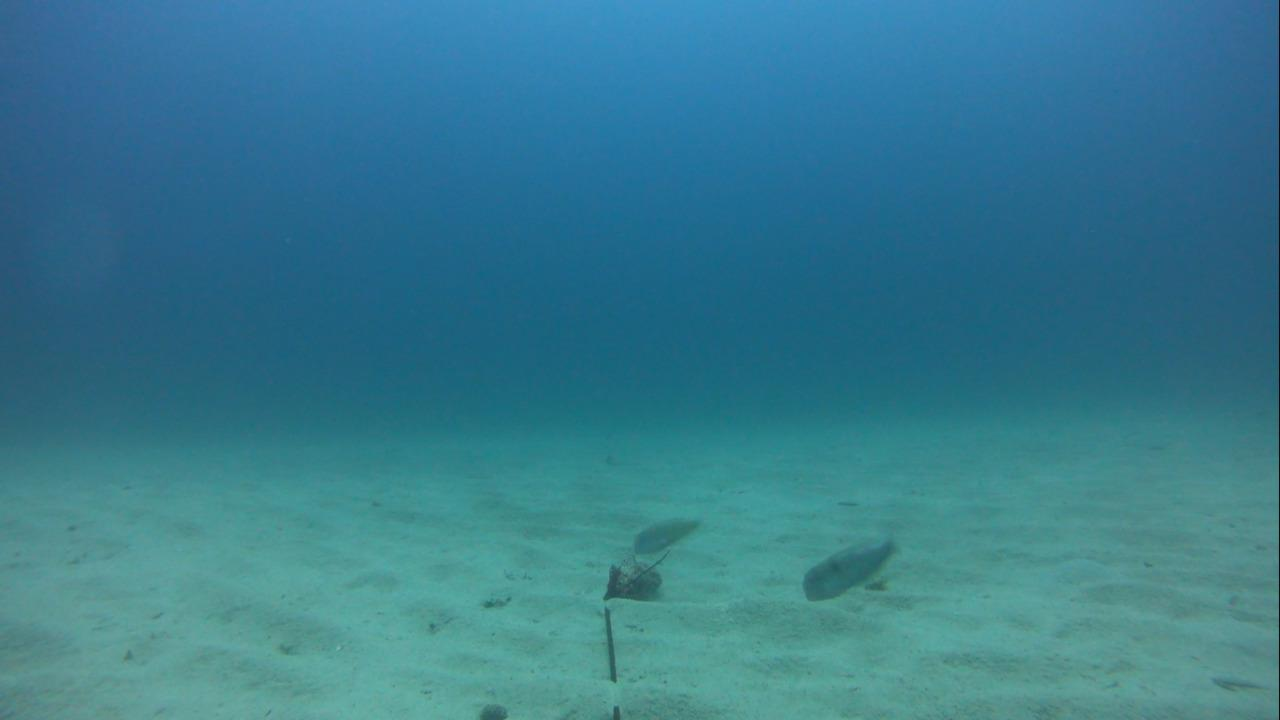raor: (799, 537, 902, 605), (630, 512, 704, 553)
